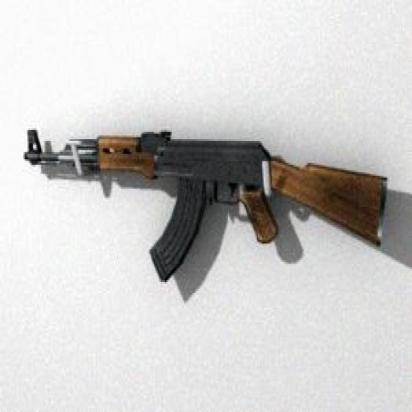Gun: (15, 112, 392, 295)
